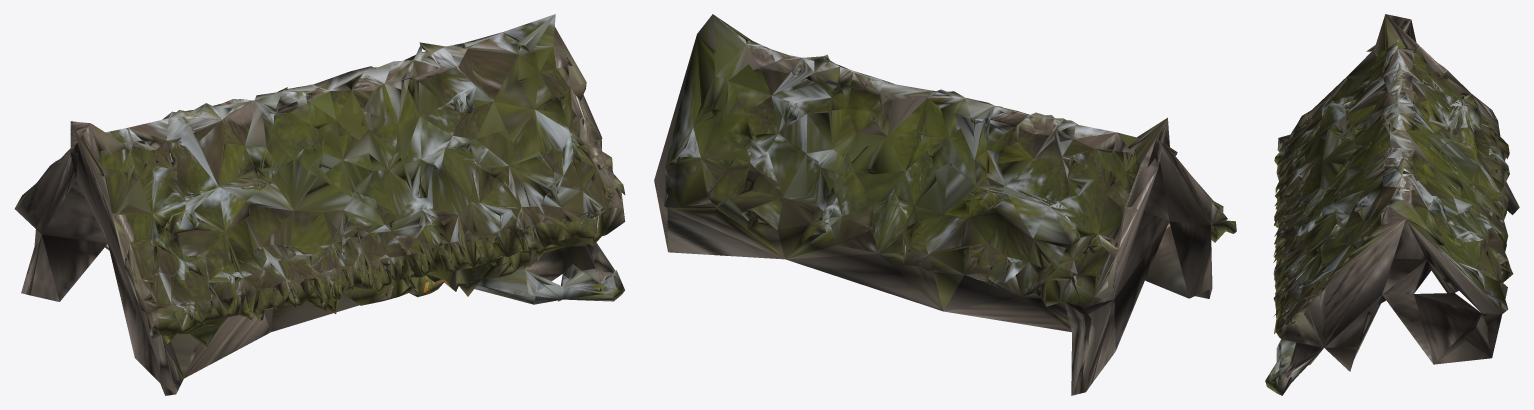
File: longhouse.glb
3 views of the same model, side by side, from view 1: azimuth 30°, elevation 25°; view 2: azimuth 150°, elevation 25°; view 3: azimuth 270°, elevation 25° (orthographic). The views are drawn at different scales.
Visible parts, largest first — view 1: Mesh_0; view 2: Mesh_0; view 3: Mesh_0.
Boxes of the visible parts, x1=… form: Mesh_0: x1=14, y1=14, x2=625, y2=395; Mesh_0: x1=654, y1=14, x2=1236, y2=395; Mesh_0: x1=1265, y1=14, x2=1519, y2=395.
Bounding box in the file's own units: 1.88 × 0.8752 × 1.04.
1 material, 1 textured.
